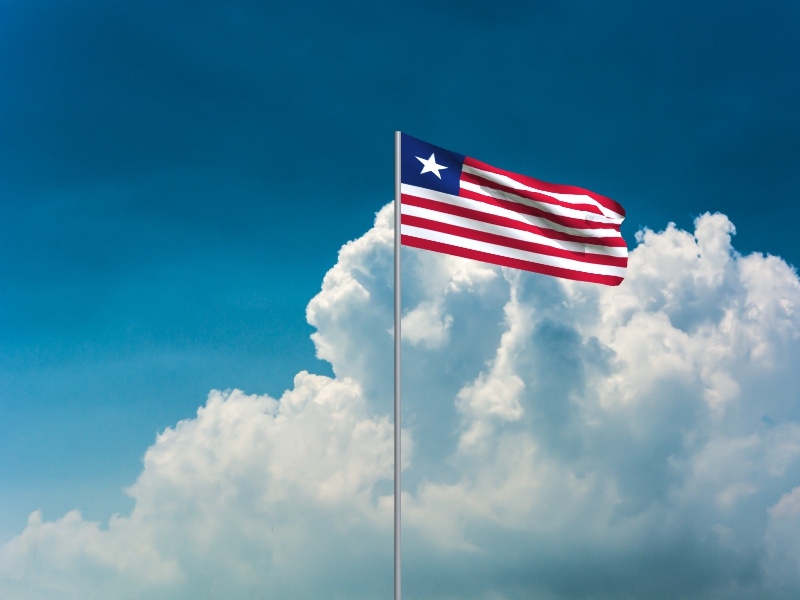lr: (402, 133, 630, 288)
